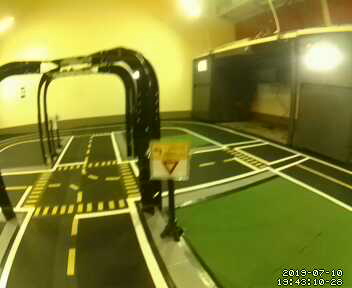Turn Yield: (149, 140, 191, 183)
